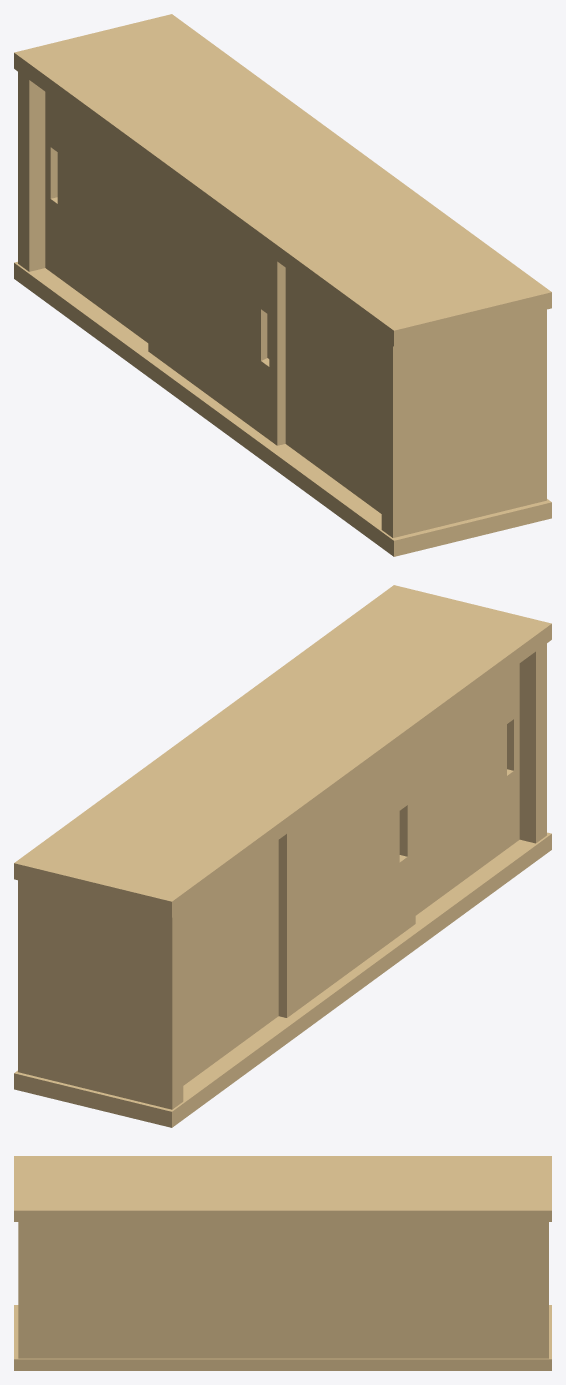
Rendered from TVCabinet.fbx.
3 renders of one model, top to bottom at view 1: azimuth 30°, elevation 25°; view 2: azimuth 150°, elevation 25°; view 3: azimuth 270°, elevation 25°, orthographic. The views are drawn at different scales.
Parts seen in each view (by area): view 1: Cube, Cube.002, Cube.007, Cube.006, Cube.004, Cube.001, Cube.003; view 2: Cube, Cube.003, Cube.007, Cube.004, Cube.006, Cube.001, Cube.002; view 3: Cube.005, Cube, Cube.001, Cube.002, Cube.003.
Boxes of the visible parts, x1,y1,x2,y2 form: Cube: [14, 14, 551, 346]; Cube.002: [381, 309, 546, 537]; Cube.007: [148, 167, 285, 445]; Cube.006: [45, 92, 148, 342]; Cube.004: [285, 268, 381, 513]; Cube.001: [14, 261, 551, 556]; Cube.003: [18, 72, 45, 271]; Cube: [14, 585, 551, 917]; Cube.003: [18, 880, 183, 1109]; Cube.007: [278, 740, 415, 1017]; Cube.004: [415, 663, 519, 915]; Cube.006: [183, 840, 278, 1085]; Cube.001: [14, 832, 551, 1127]; Cube.002: [519, 643, 546, 843]; Cube.005: [26, 1222, 541, 1358]; Cube: [14, 1156, 551, 1221]; Cube.001: [14, 1305, 551, 1370]; Cube.002: [18, 1222, 26, 1358]; Cube.003: [542, 1222, 548, 1358].
Bounding box in the file's own units: 205 × 281 × 854.
